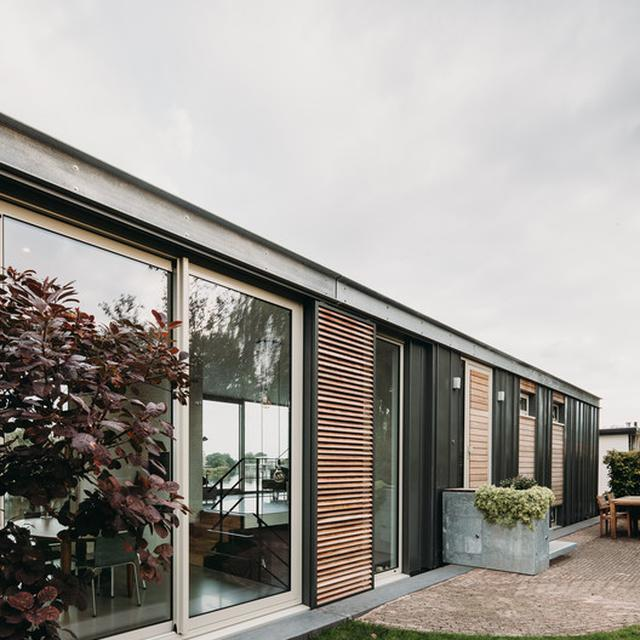building: (0, 112, 601, 640)
